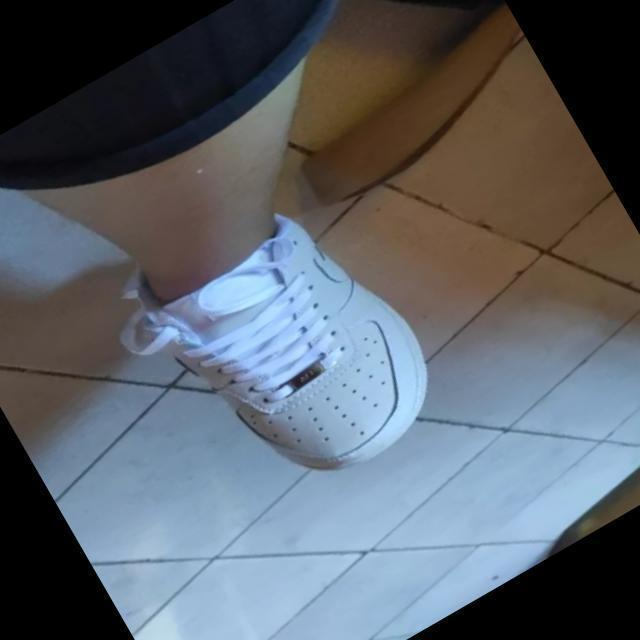nike fake air force: (107, 158, 460, 529)
